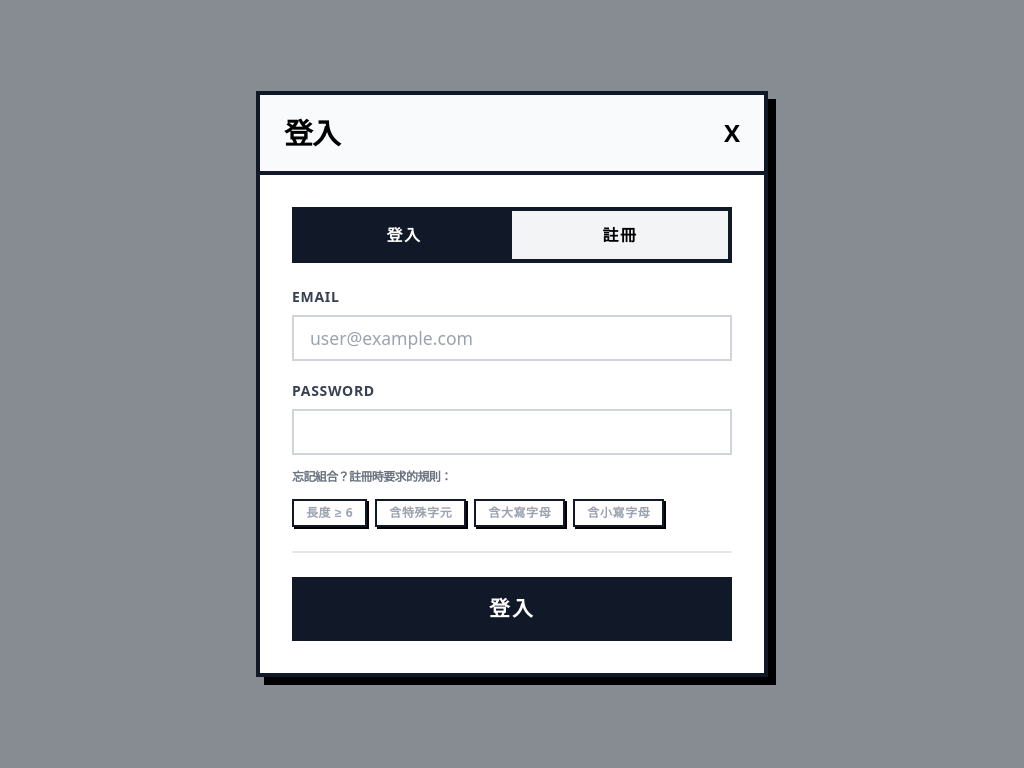
AuthOverlay › 點擊 註冊 切換按鈕時應切換模式與標題
Click the button with class "switch-btn" showing "註冊" at (620, 235), box [512,211,728,259]
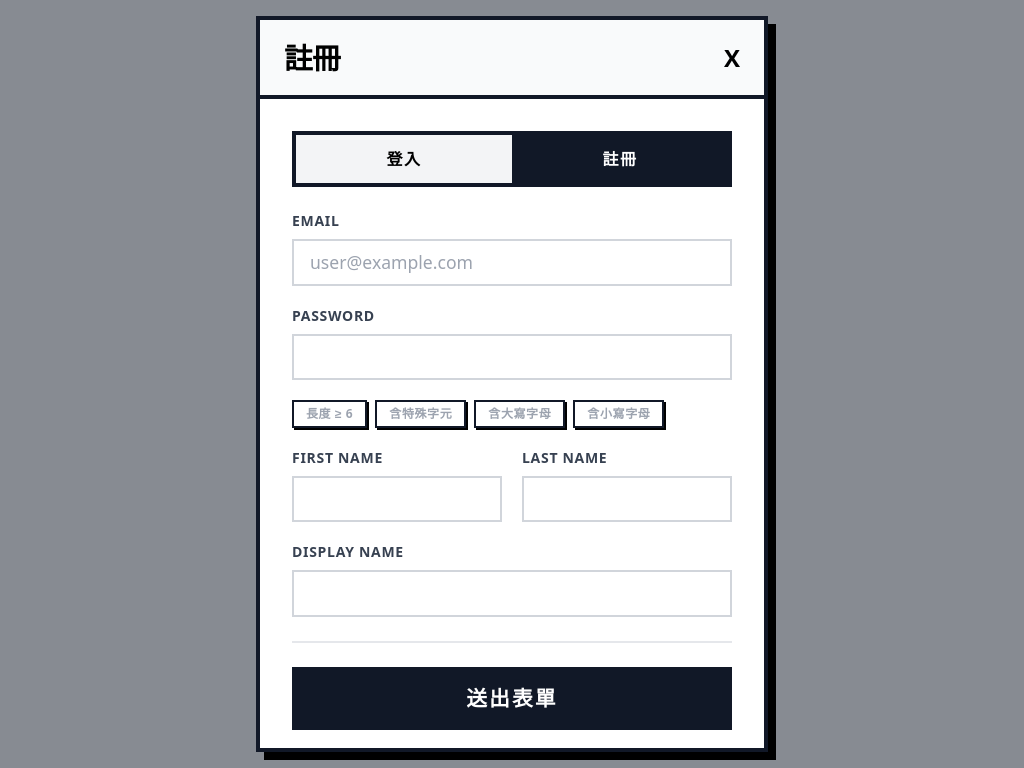
Result: the heading with class "auth-title" reads "註冊" at [284,38,340,77]
